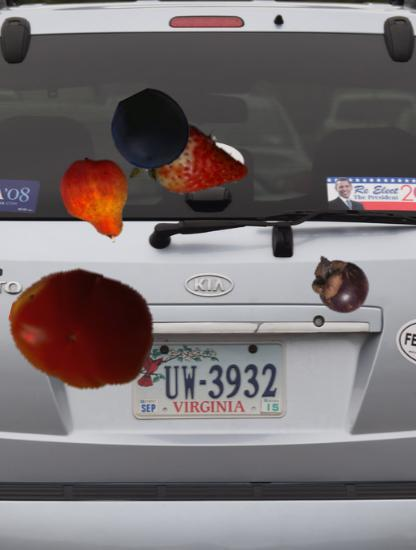Grape: (110, 91, 190, 171)
Mangostan: (307, 252, 372, 317)
Pear: (52, 157, 140, 245)
Strawberry: (129, 108, 242, 221)
Tomato: (8, 256, 155, 403)
